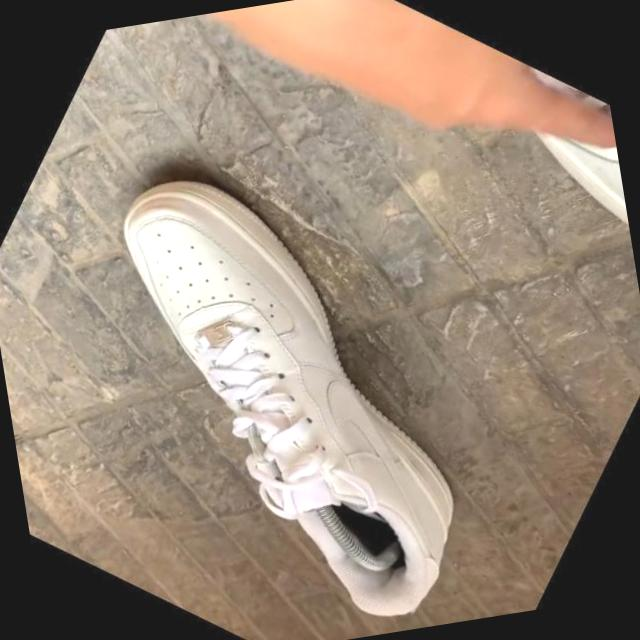nike_fake_airforce: (0, 89, 589, 640)
